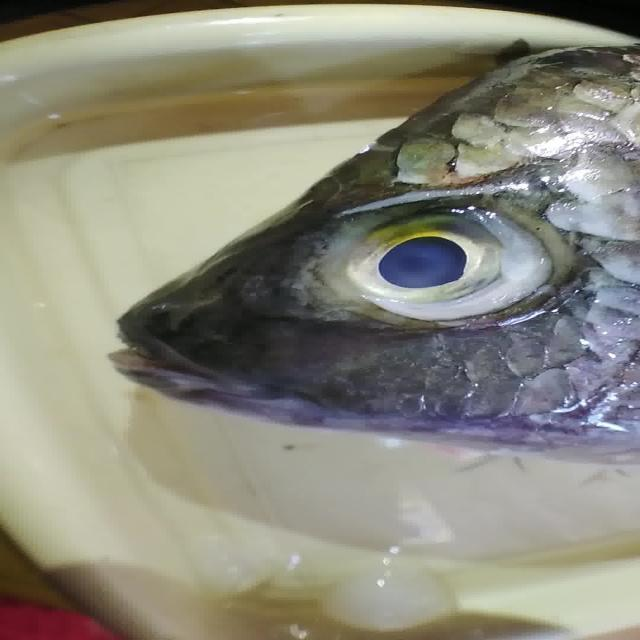Fresh: (302, 188, 593, 363)
